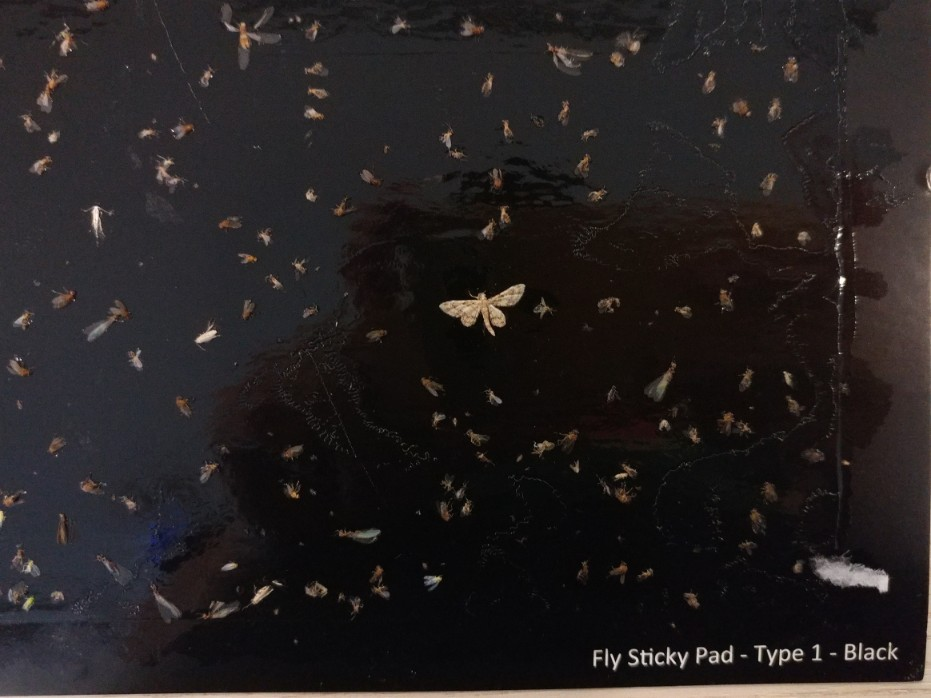moth: (430, 273, 537, 341)
